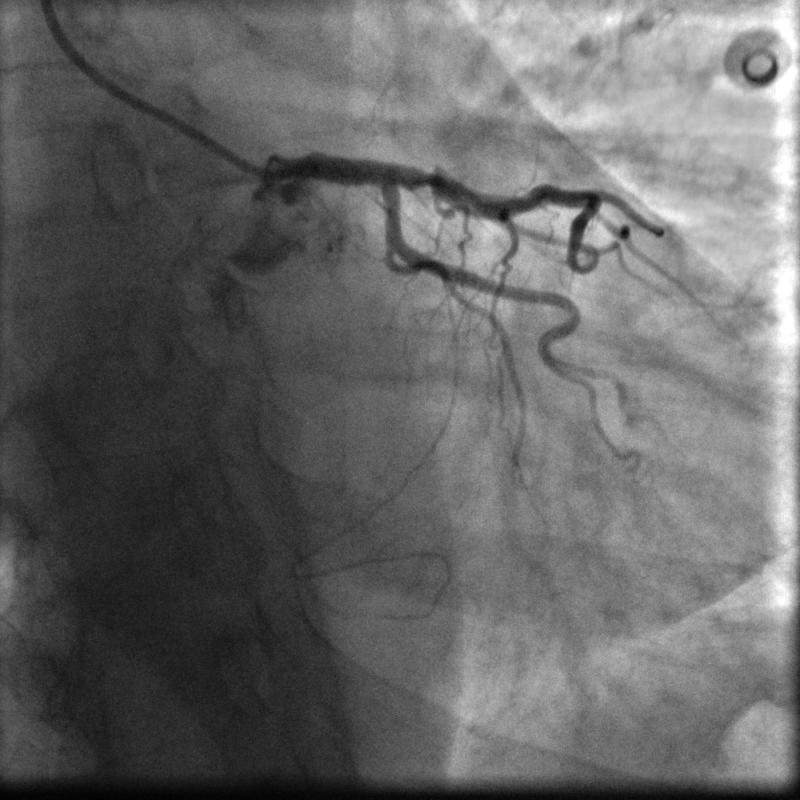Stenosis: (414, 163, 436, 189)
